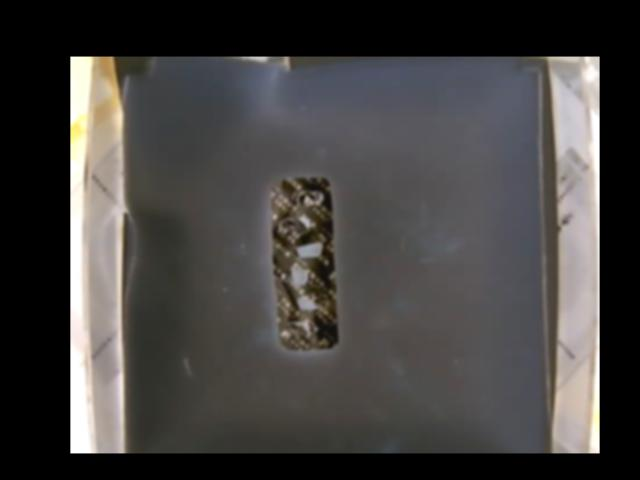Medicine: (275, 174, 335, 351)
